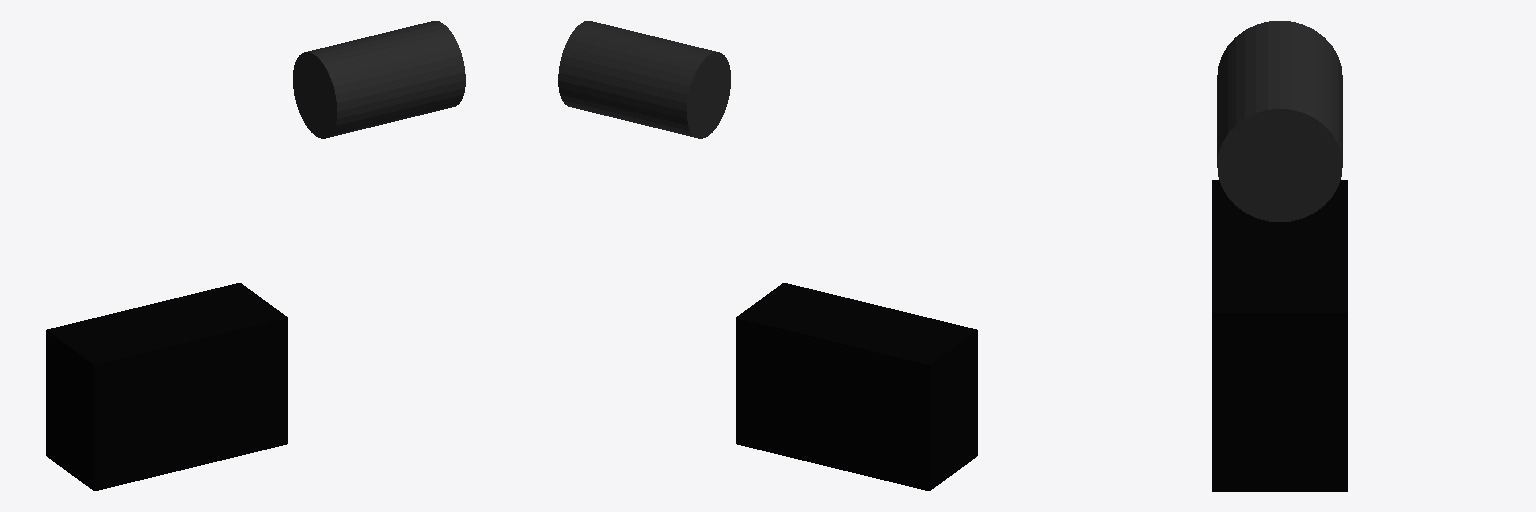
URDF robot description (rs_robot):
<?xml version="1.0" ?>
<!-- =================================================================================== -->
<!-- |    This document was autogenerated by xacro from pioneer3dx.xacro               | -->
<!-- |    EDITING THIS FILE BY HAND IS NOT RECOMMENDED                                 | -->
<!-- =================================================================================== -->
<robot name="rs_robot">
  <material name="black">
    <color rgba="0.0 0.0 0.0 1.0"/>
  </material>
  <material name="blue">
    <color rgba="0.0 0.0 0.8 1.0"/>
  </material>
  <material name="green">
    <color rgba="0.0 0.8 0.0 1.0"/>
  </material>
  <material name="grey">
    <color rgba="0.2 0.2 0.2 1.0"/>
  </material>
  <material name="orange">
    <color rgba="1.0 0.4235294117647059 0.0392156862745098 1.0"/>
  </material>
  <material name="brown">
    <color rgba="0.8705882352941177 0.8117647058823529 0.7647058823529411 1.0"/>
  </material>
  <material name="red">
    <color rgba="0.8 0.0 0.0 1.0"/>
  </material>
  <material name="white">
    <color rgba="1.0 1.0 1.0 1.0"/>
  </material>
  <!-- see https://secure.wikimedia.org/wikipedia/en/wiki/List_of_moment_of_inertia_tensors -->
  <!-- base_link -->
  <link name="base_link"/>
  <!-- Chassis -->
  <joint name="base_link_chassis_joint" type="fixed">
    <origin rpy="0 0 0" xyz="0 0 0"/>
    <parent link="base_link"/>
    <child link="chassis"/>
  </joint>
  <link name="chassis">
    <visual name="chassis_visual">
      <origin rpy="0 0 0" xyz="-0.045 0 0.148"/>
      <geometry name="pioneer_geom">
        <mesh filename="package://td3/urdf/meshes/p3dx/chassis.stl"/>
      </geometry>
      <material name="ChassisRed">
        <color rgba="0.851 0.0 0.0 1.0"/>
      </material>
    </visual>
    <collision>
      <origin rpy="0 0 0" xyz="-0.045 0 0.148"/>
      <geometry>
        <mesh filename="package://td3/urdf/meshes/p3dx/chassis.stl"/>
      </geometry>
    </collision>
    <inertial>
      <mass value="9.0"/>
      <origin xyz="0 0 0"/>
      <inertia ixx="0.07499997000000001" ixy="0.0" ixz="0.0" iyy="0.12149995139999999" iyz="0.0" izz="0.14789994084"/>
    </inertial>
  </link>
  <gazebo reference="chassis">
    <material value="Gazebo/Green"/>
  </gazebo>
  <!-- Top -->
  <joint name="chassis_top_joint" type="fixed">
    <origin rpy="0 0 0" xyz="-0.045 0 0.234"/>
    <parent link="chassis"/>
    <child link="top"/>
  </joint>
  <link name="top">
    <visual>
      <origin rpy="0 0 0" xyz="0 0 0"/>
      <geometry name="top_geom">
        <mesh filename="package://td3/urdf/meshes/p3dx/top.stl"/>
      </geometry>
      <material name="TopBlack">
        <color rgba="0.038 0.038 0.038 1.0"/>
      </material>
    </visual>
    <collision>
      <origin rpy="0 0 0" xyz="0.0 0 0.0"/>
      <geometry>
        <mesh filename="package://td3/urdf/meshes/p3dx/top.stl"/>
      </geometry>
    </collision>
    <inertial>
      <mass value="1.0"/>
      <origin xyz="0 0 0"/>
      <inertia ixx="0.01204166185" ixy="0.0" ixz="0.0" iyy="0.016510410062499998" iyz="0.0" izz="0.028535405252499996"/>
    </inertial>
  </link>
  <gazebo reference="top">
    <material value="Gazebo/Black"/>
  </gazebo>
  <!-- Front Sonar -->
  <joint name="chassis_sonar_joint" type="fixed">
    <origin rpy="0 0 0" xyz="0.109 0 0.209"/>
    <parent link="chassis"/>
    <child link="sonar"/>
  </joint>
  <link name="sonar">
    <inertial>
      <mass value="0.0001"/>
      <origin xyz="0 0 0"/>
      <inertia ixx="1" ixy="0" ixz="0" iyy="1" iyz="0" izz="1"/>
    </inertial>
    <visual name="front_sonar_vis">
      <origin rpy="0 0 0" xyz="0 0 0"/>
      <geometry name="pioneer_geom">
        <mesh filename="package://td3/urdf/meshes/p3dx/back_sonar.stl"/>
      </geometry>
      <material name="SonarYellow">
        <color rgba="0.715 0.583 0.210 1.0"/>
      </material>
    </visual>
    <collision>
      <origin rpy="0 0 0" xyz="0 0 0"/>
      <geometry>
        <box size="0.01 0.01 0.01"/>
      </geometry>
    </collision>
  </link>
  <gazebo reference="sonar">
    <material value="Gazebo/Yellow"/>
  </gazebo>
  <joint name="chassis_battery0_joint" type="fixed">
    <origin rpy="0 0 0" xyz="-0.14 0.0 0.13"/>
    <parent link="chassis"/>
    <child link="battery0"/>
  </joint>
  <link name="battery0">
    <visual name="battery0_visual">
      <origin rpy="0 0 0" xyz="0 0 0"/>
      <geometry name="battery0_geometry">
        <box size="0.151 0.065 0.094"/>
      </geometry>
      <material name="battery0_material">
        <color rgba="0.038 0.038 0.038 1.0"/>
      </material>
    </visual>
    <inertial>
      <mass value="2.5"/>
      <origin xyz="0 0 0"/>
      <inertia ixx="0.0035208319250000005" ixy="0.0" ixz="0.0" iyy="0.007604163625000001" iyz="0.0" izz="0.004083331700000001"/>
    </inertial>
  </link>
  <gazebo reference="battery0">
    <material value="Gazebo/Black"/>
  </gazebo>
  <!-- Hubcap -->
  <joint name="right_hub_joint" type="continuous">
    <origin rpy="0 0 0" xyz="0  0.15 0.09"/>
    <parent link="chassis"/>
    <child link="right_hub"/>
    <axis xyz="0 1 0"/>
  </joint>
  <link name="right_hub">
    <inertial>
      <mass value="0.01"/>
      <origin xyz="0 0 0"/>
      <inertia ixx="0.012411765597" ixy="0" ixz="0" iyy="0.015218160428" iyz="0" izz="0.011763977943"/>
    </inertial>
    <visual name="base_visual">
      <origin rpy="0 0 0" xyz="0 0 0"/>
      <geometry name="pioneer_geom">
        <mesh filename="package://td3/urdf/meshes/p3dx/right_hubcap.stl"/>
      </geometry>
      <material name="HubcapYellow">
        <color rgba="1.0 0.811 0.151 1.0"/>
      </material>
    </visual>
    <collision>
      <origin rpy="0 0 0" xyz="0 0 0"/>
      <geometry>
        <box size="0.01 0.01 0.01"/>
      </geometry>
    </collision>
  </link>
  <gazebo reference="right_hub">
    <material value="Gazebo/Yellow"/>
  </gazebo>
  <!-- Wheel -->
  <joint name="right_wheel_joint" type="fixed">
    <axis xyz="0 1 0"/>
    <origin rpy="0 0 0" xyz="0 0 0"/>
    <parent link="right_hub"/>
    <child link="right_wheel"/>
  </joint>
  <link name="right_wheel">
    <inertial>
      <mass value="0.5"/>
      <origin xyz="0 0 0"/>
      <inertia ixx="0.012411765597" ixy="0" ixz="0" iyy="0.015218160428" iyz="0" izz="0.011763977943"/>
    </inertial>
    <visual name="base_visual">
      <origin rpy="0 0 0" xyz="0 0 0"/>
      <geometry name="pioneer_geom">
        <mesh filename="package://td3/urdf/meshes/p3dx/right_wheel.stl"/>
      </geometry>
      <material name="WheelBlack">
        <color rgba="0.117 0.117 0.117 1"/>
      </material>
    </visual>
    <collision>
      <origin rpy="-1.57079635 0 0" xyz="0 0 0"/>
      <geometry>
        <!--<mesh filename="${meshes}/${side}_wheel.stl"/>-->
        <cylinder length="0.01" radius="0.09"/>
      </geometry>
    </collision>
  </link>
  <gazebo reference="right_wheel">
    <material value="Gazebo/Black"/>
  </gazebo>
  <!-- Hubcap -->
  <joint name="left_hub_joint" type="continuous">
    <origin rpy="0 0 0" xyz="0 -0.15 0.09"/>
    <parent link="chassis"/>
    <child link="left_hub"/>
    <axis xyz="0 1 0"/>
  </joint>
  <link name="left_hub">
    <inertial>
      <mass value="0.01"/>
      <origin xyz="0 0 0"/>
      <inertia ixx="0.012411765597" ixy="0" ixz="0" iyy="0.015218160428" iyz="0" izz="0.011763977943"/>
    </inertial>
    <visual name="base_visual">
      <origin rpy="0 0 0" xyz="0 0 0"/>
      <geometry name="pioneer_geom">
        <mesh filename="package://td3/urdf/meshes/p3dx/left_hubcap.stl"/>
      </geometry>
      <material name="HubcapYellow">
        <color rgba="1.0 0.811 0.151 1.0"/>
      </material>
    </visual>
    <collision>
      <origin rpy="0 0 0" xyz="0 0 0"/>
      <geometry>
        <box size="0.01 0.01 0.01"/>
      </geometry>
    </collision>
  </link>
  <gazebo reference="left_hub">
    <material value="Gazebo/Yellow"/>
  </gazebo>
  <!-- Wheel -->
  <joint name="left_wheel_joint" type="fixed">
    <axis xyz="0 1 0"/>
    <origin rpy="0 0 0" xyz="0 0 0"/>
    <parent link="left_hub"/>
    <child link="left_wheel"/>
  </joint>
  <link name="left_wheel">
    <inertial>
      <mass value="0.5"/>
      <origin xyz="0 0 0"/>
      <inertia ixx="0.012411765597" ixy="0" ixz="0" iyy="0.015218160428" iyz="0" izz="0.011763977943"/>
    </inertial>
    <visual name="base_visual">
      <origin rpy="0 0 0" xyz="0 0 0"/>
      <geometry name="pioneer_geom">
        <mesh filename="package://td3/urdf/meshes/p3dx/left_wheel.stl"/>
      </geometry>
      <material name="WheelBlack">
        <color rgba="0.117 0.117 0.117 1"/>
      </material>
    </visual>
    <collision>
      <origin rpy="-1.57079635 0 0" xyz="0 0 0"/>
      <geometry>
        <!--<mesh filename="${meshes}/${side}_wheel.stl"/>-->
        <cylinder length="0.01" radius="0.09"/>
      </geometry>
    </collision>
  </link>
  <gazebo reference="left_wheel">
    <material value="Gazebo/Black"/>
  </gazebo>
  <!-- Swivel -->
  <joint name="chassis_swivel_joint" type="continuous">
    <origin rpy="0 0 0" xyz="-0.185 0 0.055"/>
    <axis xyz="0 0 1"/>
    <anchor xyz="0 0 0"/>
    <limit effort="100" k_velocity="0" velocity="100"/>
    <joint_properties damping="0.0" friction="0.0"/>
    <parent link="chassis"/>
    <child link="swivel"/>
  </joint>
  <link name="swivel">
    <inertial>
      <mass value="0.1"/>
      <origin xyz="0 0 0"/>
      <inertia ixx="0.01" ixy="0" ixz="0" iyy="0.01" iyz="0" izz="0.01"/>
    </inertial>
    <visual name="base_visual">
      <origin rpy="0 0 0" xyz="0 0 0"/>
      <geometry name="pioneer_geom">
        <mesh filename="package://td3/urdf/meshes/p3dx/swivel.stl"/>
      </geometry>
      <material name="swivel">
        <color rgba="0.5 0.5 0.5 1"/>
      </material>
    </visual>
    <collision>
      <origin rpy="0 0 0" xyz="0 0 0"/>
      <geometry>
        <box size="0.01 0.01 0.01"/>
      </geometry>
    </collision>
  </link>
  <gazebo reference="swivel">
    <material value="Gazebo/Grey"/>
  </gazebo>
  <!-- Center Wheel -->
  <joint name="swivel_wheel_joint" type="continuous">
    <origin rpy="0 0 0" xyz="-0.026 0 -0.016"/>
    <axis xyz="0 1 0"/>
    <anchor xyz="0 0 0"/>
    <limit effort="100" k_velocity="0" velocity="100"/>
    <joint_properties damping="0.0" friction="0.0"/>
    <parent link="swivel"/>
    <child link="center_wheel"/>
  </joint>
  <link name="center_wheel">
    <inertial>
      <mass value="0.1"/>
      <origin xyz="0 0 0"/>
      <inertia ixx="0.012411765597" ixy="-0.000711733678" ixz="0.00050272983" iyy="0.015218160428" iyz="-0.000004273467" izz="0.011763977943"/>
    </inertial>
    <visual name="base_visual">
      <origin rpy="0 0 0" xyz="0 0 0"/>
      <geometry name="pioneer_geom">
        <mesh filename="package://td3/urdf/meshes/p3dx/center_wheel.stl"/>
      </geometry>
      <material name="WheelBlack">
        <color rgba="0.117 0.117 0.117 1"/>
      </material>
    </visual>
    <collision>
      <origin rpy="-1.57079635 0 0" xyz="0 0 0"/>
      <geometry>
        <!--<mesh filename="${meshes}/center_wheel.stl"/>-->
        <cylinder length="0.01" radius="0.0375"/>
      </geometry>
    </collision>
  </link>
  <gazebo reference="center_wheel">
    <material value="Gazebo/Black"/>
  </gazebo>
  <!-- Center Hubcap -->
  <joint name="wheel_hubcap_joint" type="fixed">
    <origin rpy="0 0 0" xyz="-0.0035 0 -0.001"/>
    <parent link="center_wheel"/>
    <child link="center_hubcap"/>
  </joint>
  <link name="center_hubcap">
    <inertial>
      <mass value="0.01"/>
      <origin xyz="0 0 0"/>
      <inertia ixx="0.012411765597" ixy="-0.000711733678" ixz="0.00050272983" iyy="0.015218160428" iyz="-0.000004273467" izz="0.011763977943"/>
    </inertial>
    <visual name="base_visual">
      <origin rpy="0 0 0" xyz="0 0 0"/>
      <geometry name="pioneer_geom">
        <mesh filename="package://td3/urdf/meshes/p3dx/center_hubcap.stl"/>
      </geometry>
      <material name="swivel">
        <color rgba="0.5 0.5 0.5 1"/>
      </material>
    </visual>
    <collision>
      <origin rpy="0 0 0" xyz="0 0 0"/>
      <geometry>
        <box size="0.01 0.01 0.01"/>
      </geometry>
    </collision>
  </link>
  <gazebo reference="center_hubcap">
    <material value="Gazebo/Grey"/>
  </gazebo>
  <joint name="chassis_front_laser_joint" type="fixed">
    <axis xyz="0 0 1"/>
    <origin rpy="0 0 0" xyz="0.125 0 0.25"/>
    <parent link="chassis"/>
    <child link="front_laser"/>
  </joint>
  <link name="front_laser">
    <collision>
      <origin rpy="0 0 0" xyz="0 0 0"/>
      <geometry>
        <box size="0.1 0.1 0.1"/>
      </geometry>
    </collision>
    <visual>
      <origin rpy="0 0 0" xyz="0 0 0"/>
      <geometry>
        <mesh filename="package://td3/urdf/meshes/laser/hokuyo.dae"/>
      </geometry>
    </visual>
    <inertial>
      <mass value="1e-5"/>
      <origin rpy="0 0 0" xyz="0 0 0"/>
      <inertia ixx="1e-6" ixy="0" ixz="0" iyy="1e-6" iyz="0" izz="1e-6"/>
    </inertial>
  </link>
  <joint name="chassis_front_camera_joint" type="fixed">
    <axis xyz="0 0 1"/>
    <origin rpy="0 0 0" xyz="0.025 0 0.32"/>
    <parent link="chassis"/>
    <child link="front_camera"/>
  </joint>
  <!-- Camera -->
  <link name="front_camera">
    <inertial>
      <mass value="1e-5"/>
      <origin rpy="0 0 0" xyz="0 0 0"/>
      <inertia ixx="1e-6" ixy="0" ixz="0" iyy="1e-6" iyz="0" izz="1e-6"/>
    </inertial>
    <visual>
      <origin rpy="0 1.57 0" xyz="0 0 0"/>
      <geometry>
        <cylinder length="0.1" radius="0.03"/>
      </geometry>
      <material name="grey"/>
    </visual>
    <collision>
      <origin rpy="0 1.57 0" xyz="0 0 0"/>
      <geometry>
        <cylinder length="0.1" radius="0.03"/>
      </geometry>
    </collision>
  </link>
  <gazebo reference="front_camera">
    <material value="Gazebo/Grey"/>
  </gazebo>
  <joint name="chassis_cameraD_joint" type="fixed">
    <axis xyz="0 0 1"/>
    <origin rpy="0 0 0" xyz="0.025 0 0.32"/>
    <parent link="chassis"/>
    <child link="cameraD"/>
  </joint>
  <!-- Camera -->
  <link name="cameraD">
    <inertial>
      <mass value="1e-5"/>
      <origin rpy="0 0 0" xyz="0 0 0"/>
      <inertia ixx="1e-6" ixy="0" ixz="0" iyy="1e-6" iyz="0" izz="1e-6"/>
    </inertial>
    <visual>
      <origin rpy="0 1.57 0" xyz="0 0 0"/>
      <geometry>
        <cylinder length="0.1" radius="0.03"/>
      </geometry>
      <material name="grey"/>
    </visual>
    <collision>
      <origin rpy="0 1.57 0" xyz="0 0 0"/>
      <geometry>
        <cylinder length="0.1" radius="0.03"/>
      </geometry>
    </collision>
  </link>
  <gazebo reference="cameraD">
    <material value="Gazebo/Grey"/>
  </gazebo>
  <joint name="velodyne_base_mount_joint" type="fixed">
    <origin rpy="0 0 0" xyz="0.125 0 0.25"/>
    <parent link="base_link"/>
    <child link="velodyne_base_link"/>
  </joint>
  <link name="velodyne_base_link">
    <inertial>
      <mass value="0.83"/>
      <origin xyz="0 0 0.03585"/>
      <inertia ixx="0.000908059425" ixy="0" ixz="0" iyy="0.000908059425" iyz="0" izz="0.0011049624"/>
    </inertial>
    <visual>
      <geometry>
        <mesh filename="package://velodyne_description/meshes/VLP16_base_1.dae"/>
      </geometry>
    </visual>
    <visual>
      <geometry>
        <mesh filename="package://velodyne_description/meshes/VLP16_base_2.dae"/>
      </geometry>
    </visual>
    <collision>
      <origin rpy="0 0 0" xyz="0 0 0.03585"/>
      <geometry>
        <cylinder length="0.0717" radius="0.0516"/>
      </geometry>
    </collision>
  </link>
  <joint name="velodyne_base_scan_joint" type="fixed">
    <origin rpy="0 0 0" xyz="0 0 0.0377"/>
    <parent link="velodyne_base_link"/>
    <child link="velodyne"/>
  </joint>
  <link name="velodyne">
    <inertial>
      <mass value="0.01"/>
      <origin xyz="0 0 0"/>
      <inertia ixx="1e-7" ixy="0" ixz="0" iyy="1e-7" iyz="0" izz="1e-7"/>
    </inertial>
    <visual>
      <origin xyz="0 0 -0.0377"/>
      <geometry>
        <mesh filename="package://velodyne_description/meshes/VLP16_scan.dae"/>
      </geometry>
    </visual>
  </link>
</robot>

--- Facts derived from the render (not from the file) ---
3 views of the same robot in one strip: view 1: azimuth 30°, elevation 25°; view 2: azimuth 150°, elevation 25°; view 3: azimuth 270°, elevation 25° (orthographic).
Robot: rs_robot — 17 links, 16 joints (4 continuous, 12 fixed); root link base_link; default pose: all joints at 0.
Links seen in each view (by area): view 1: battery0, front_camera; view 2: battery0, front_camera; view 3: battery0, front_camera.
Boxes of the visible links, x1,y1,x2,y2 form: battery0: (46,283,287,490); front_camera: (293,21,465,138); battery0: (736,283,977,490); front_camera: (558,21,730,138); battery0: (1212,180,1347,491); front_camera: (1217,21,1342,221).
Bounding box of the posed robot: 0.2905 × 0.065 × 0.267 m (x, y, z).
Meshes: 14 distinct files referenced, 0 mesh visuals loaded (none loaded); not drawn: 14 (reference not matched to a file when rendering).